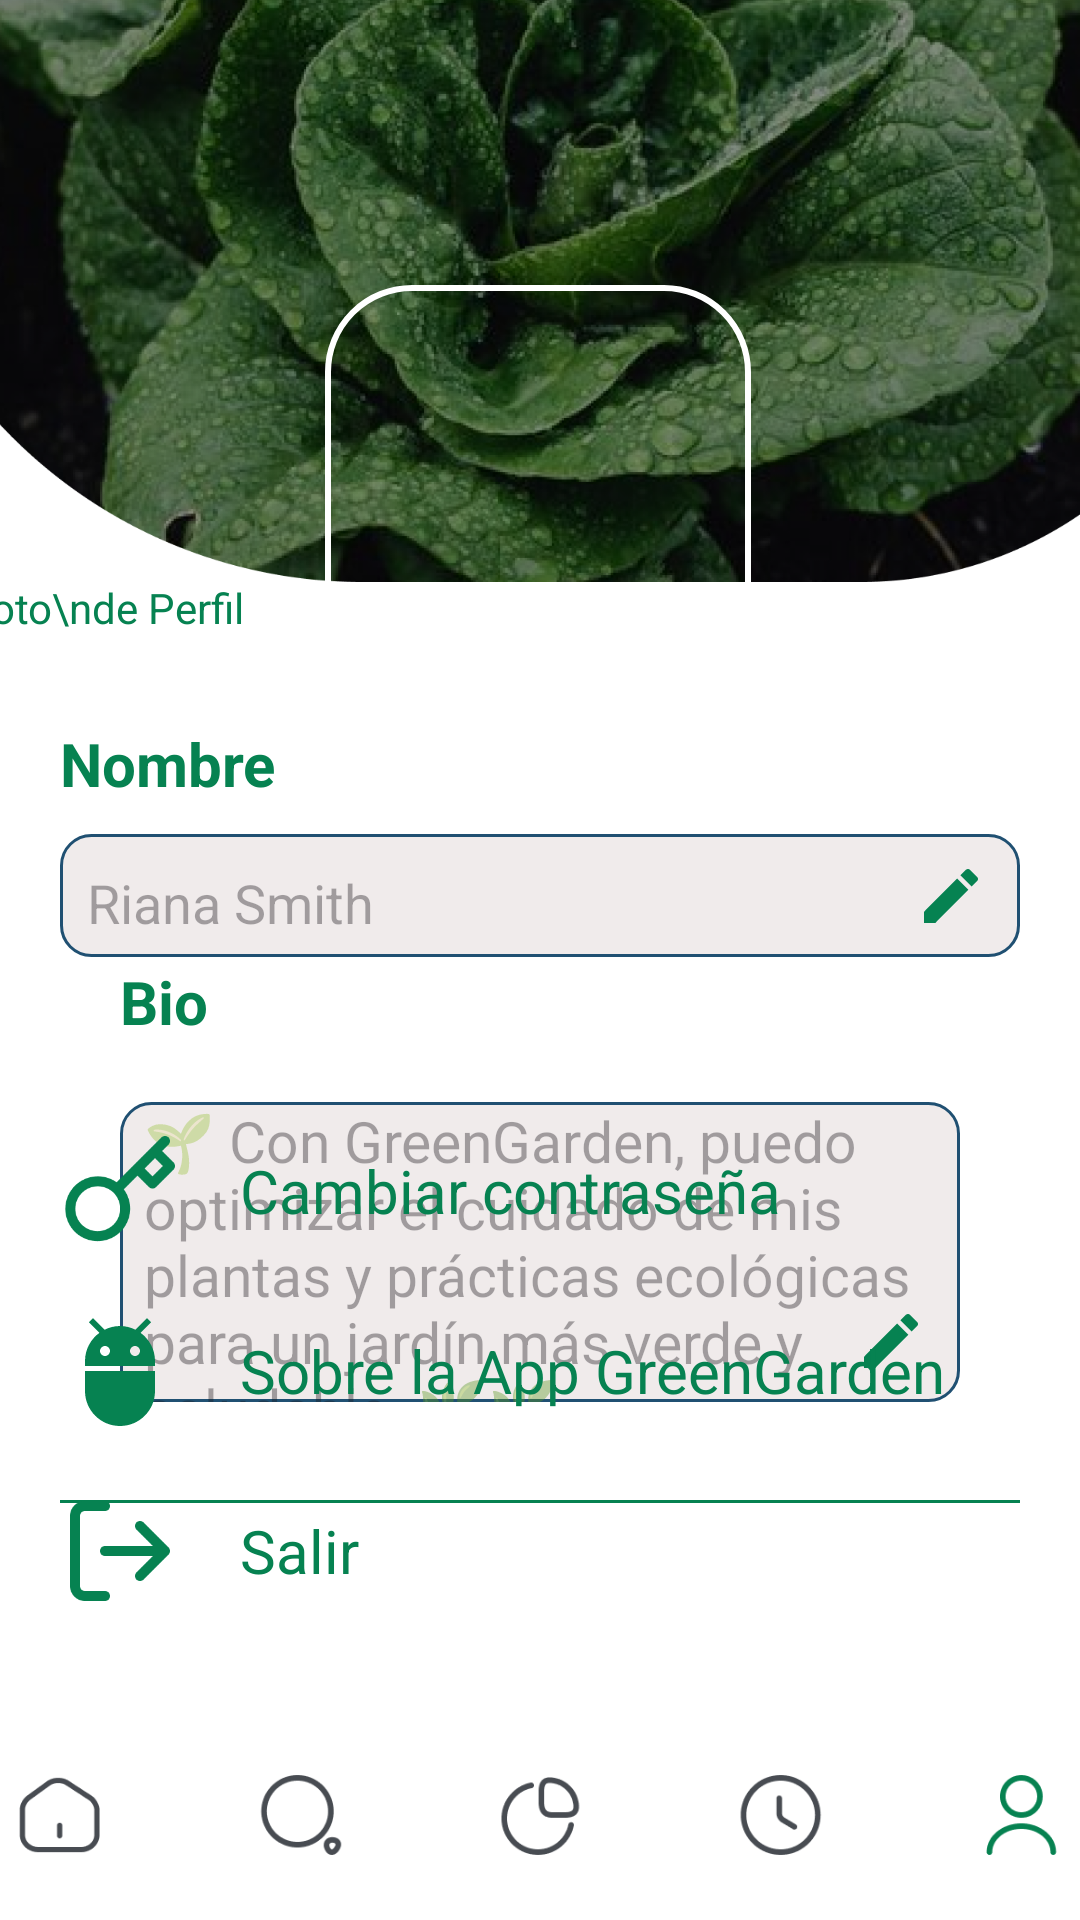

Where to tap for icons on this 1080px x 1920px app screen, as (x=x, y=y):
clock: (x=780, y=1815)
exit: (x=120, y=1550)
graph: (x=540, y=1816)
home: (x=59, y=1815)
key: (x=122, y=1191)
search: (x=301, y=1815)
userg: (x=1021, y=1815)
